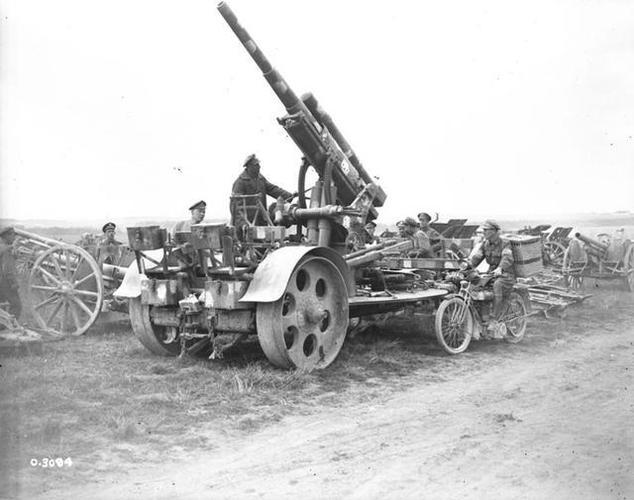MIL_SPG: (114, 2, 447, 371)
